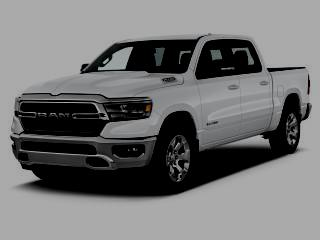ram: (34, 106, 74, 125)
